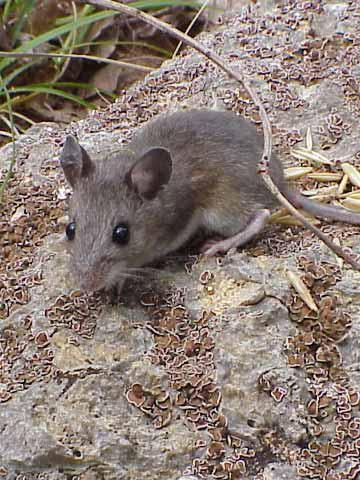rat: (60, 108, 360, 294)
